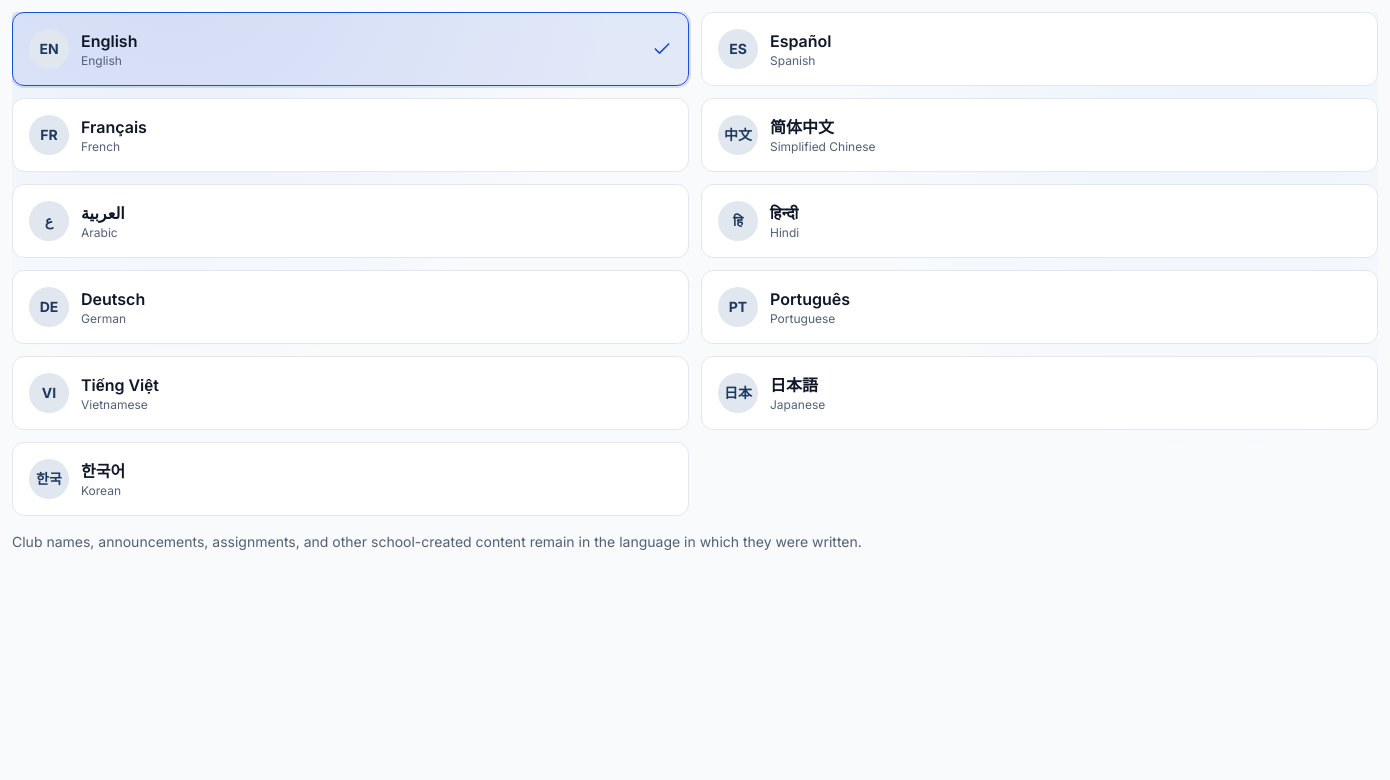
language preferences › persists Spanish and applies it immediately
What coordinates should you click on to do the following:
click the radio button labelled "ES Español Spanish"
I would click on:
 (738, 49)
Its box is [701, 12, 1378, 86].
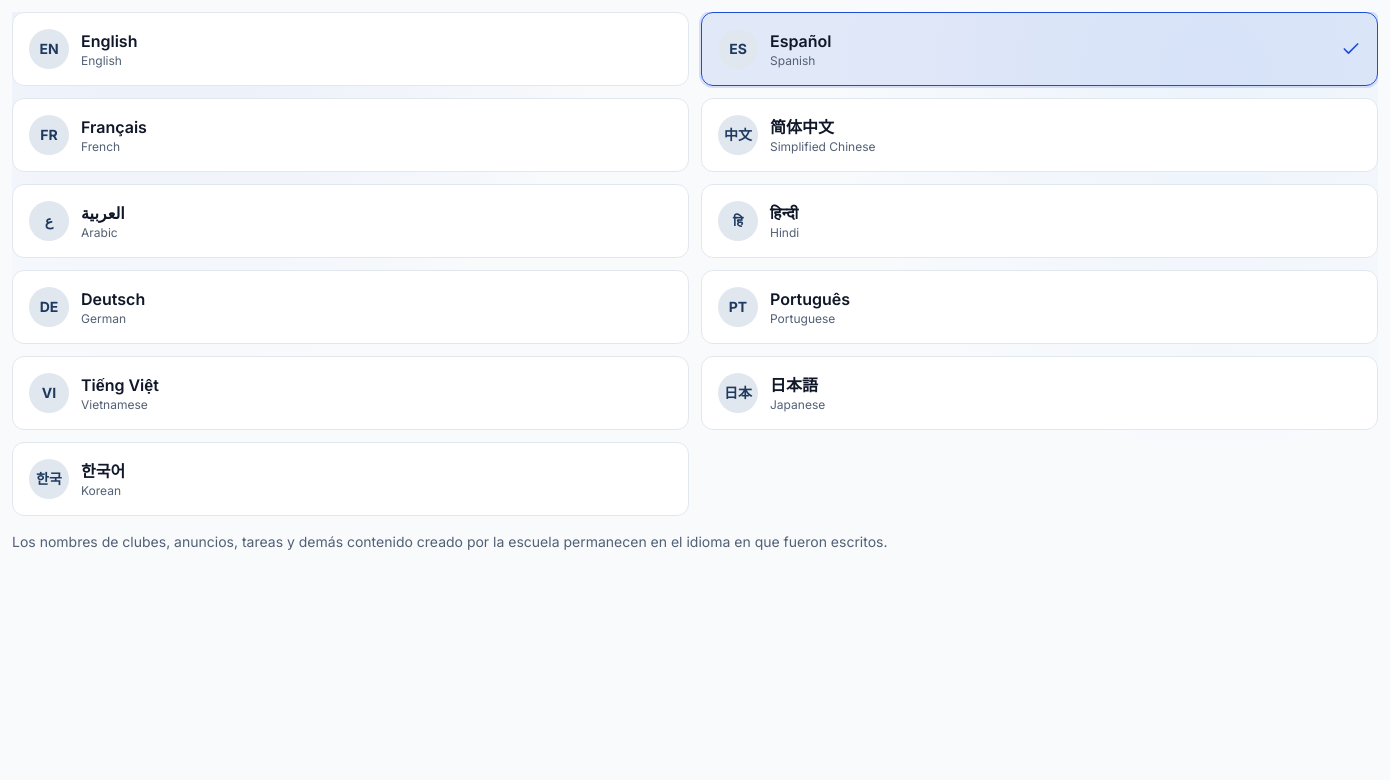
Expected: the text "contenido creado por la escuela" is shown, [12, 533, 888, 550]
